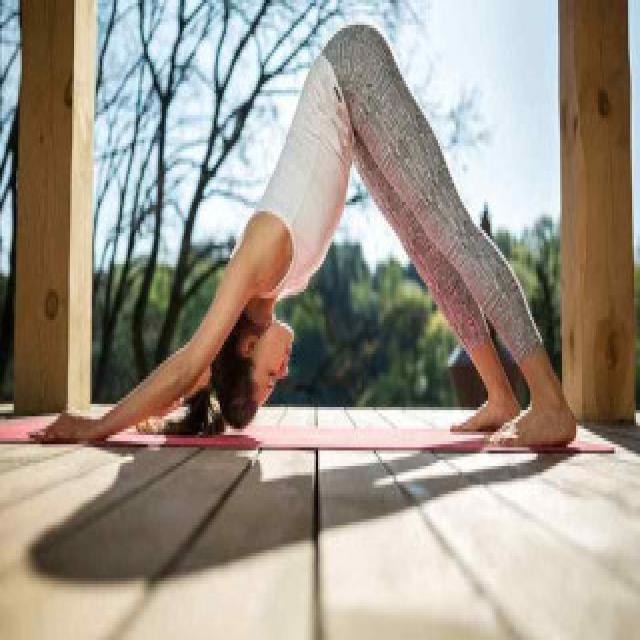yoga-pose downward: (34, 21, 575, 452)
